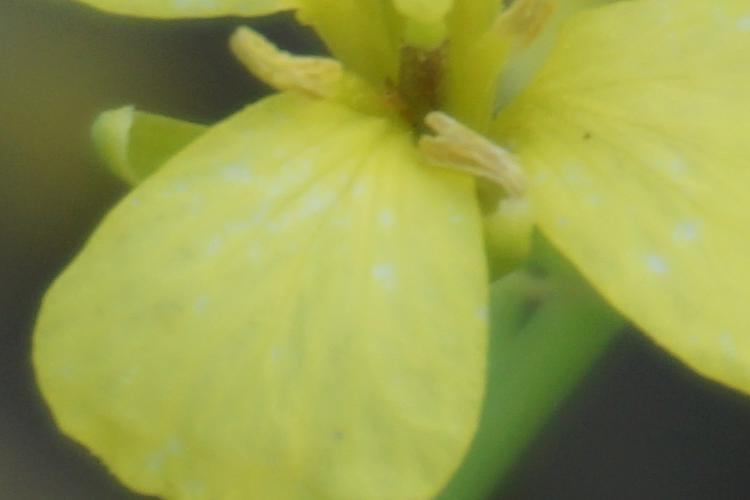yellow: (42, 9, 750, 485)
